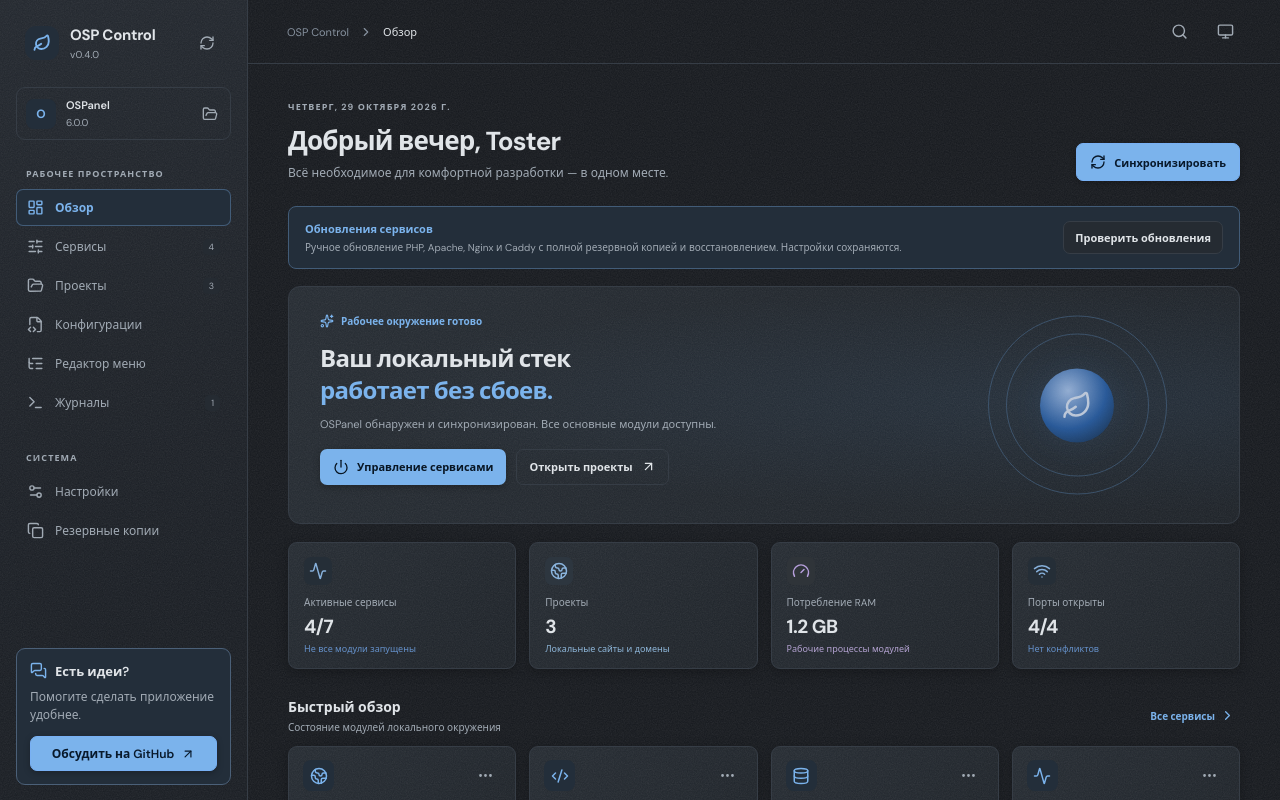
Test: App (browser mode: adapter serves mocks) › App flows (browser mode) › reports a failed panel folder open
Click the button named "Открыть папку OSPanel". click: (208, 114)
box: x1=195 y1=100 x2=221 y2=126
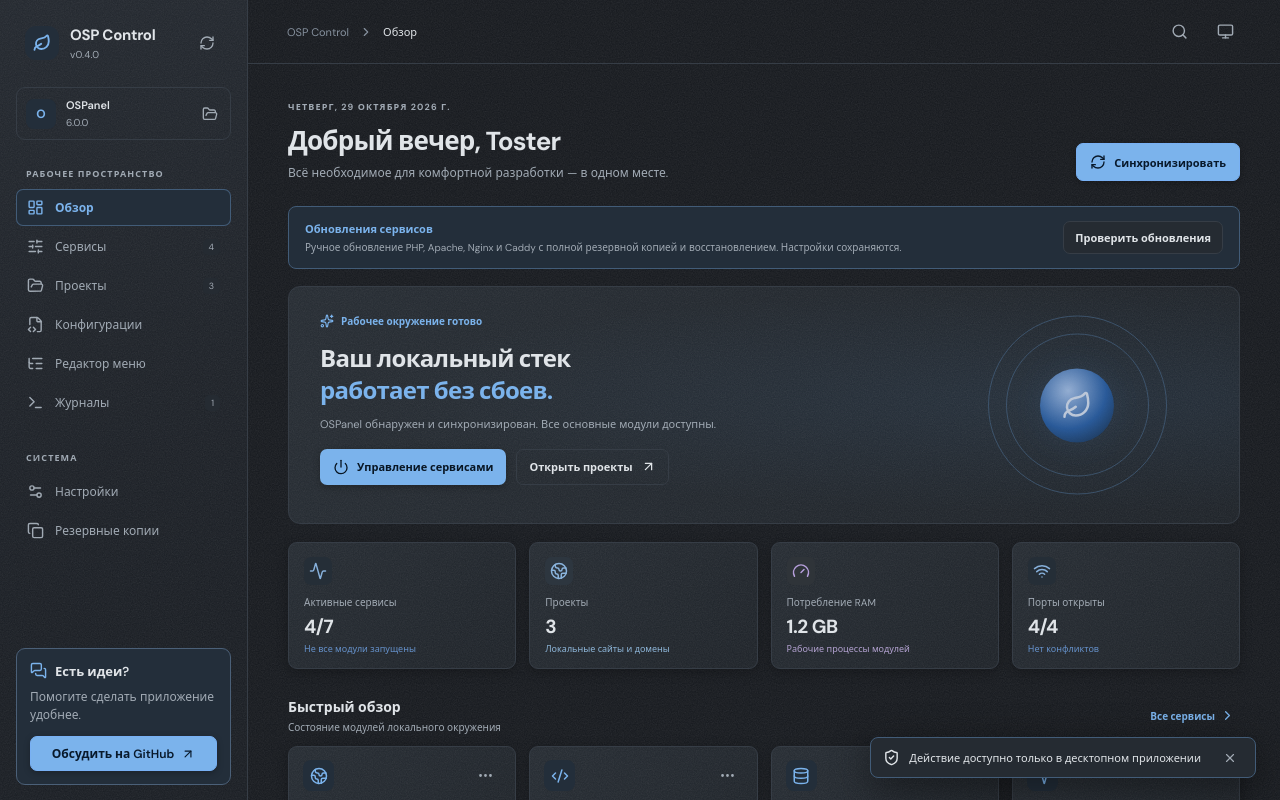
Expected: the text "Действие доступно только в десктопном приложении" is shown, x1=909 y1=750 x2=1201 y2=765
